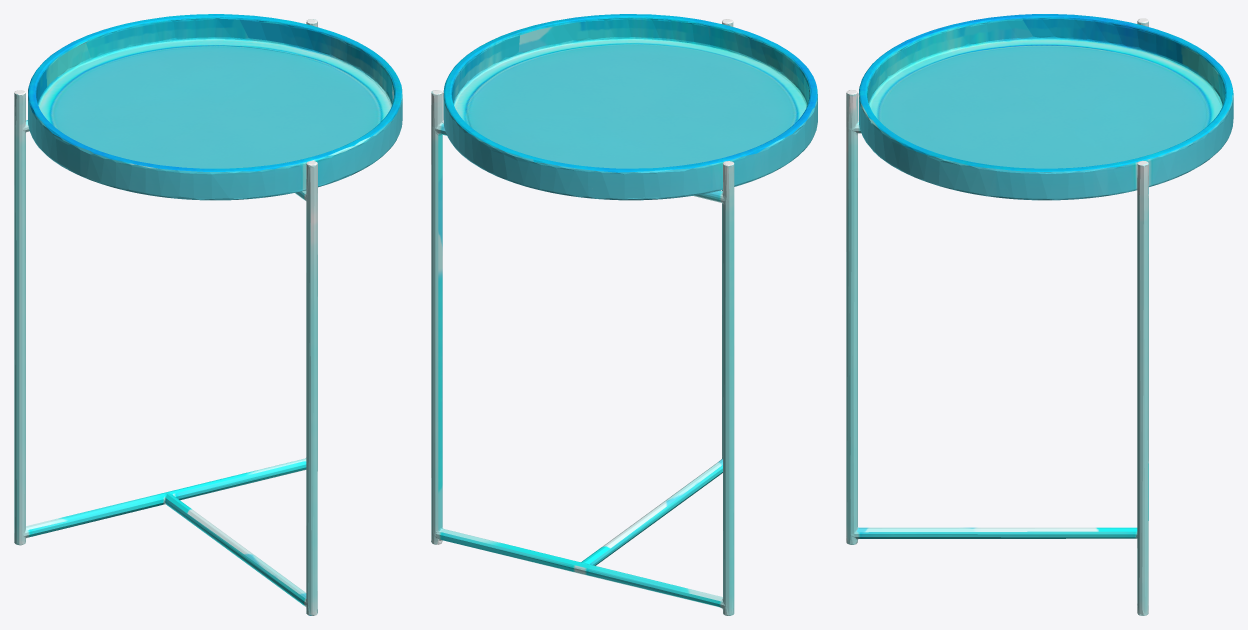
The model's file is edited_mesh.glb.
3 views of the same model, side by side, from view 1: azimuth 30°, elevation 25°; view 2: azimuth 150°, elevation 25°; view 3: azimuth 270°, elevation 25° (orthographic).
Parts seen in each view (by area): view 1: normalized_model.obj; view 2: normalized_model.obj; view 3: normalized_model.obj.
Boxes of the visible parts, x1=… form: normalized_model.obj: x1=14, y1=14, x2=402, y2=615; normalized_model.obj: x1=431, y1=14, x2=817, y2=615; normalized_model.obj: x1=846, y1=14, x2=1233, y2=615.
Bounding box in the file's own units: 1.09 × 1.44 × 1.12.
1 material, 1 textured.
